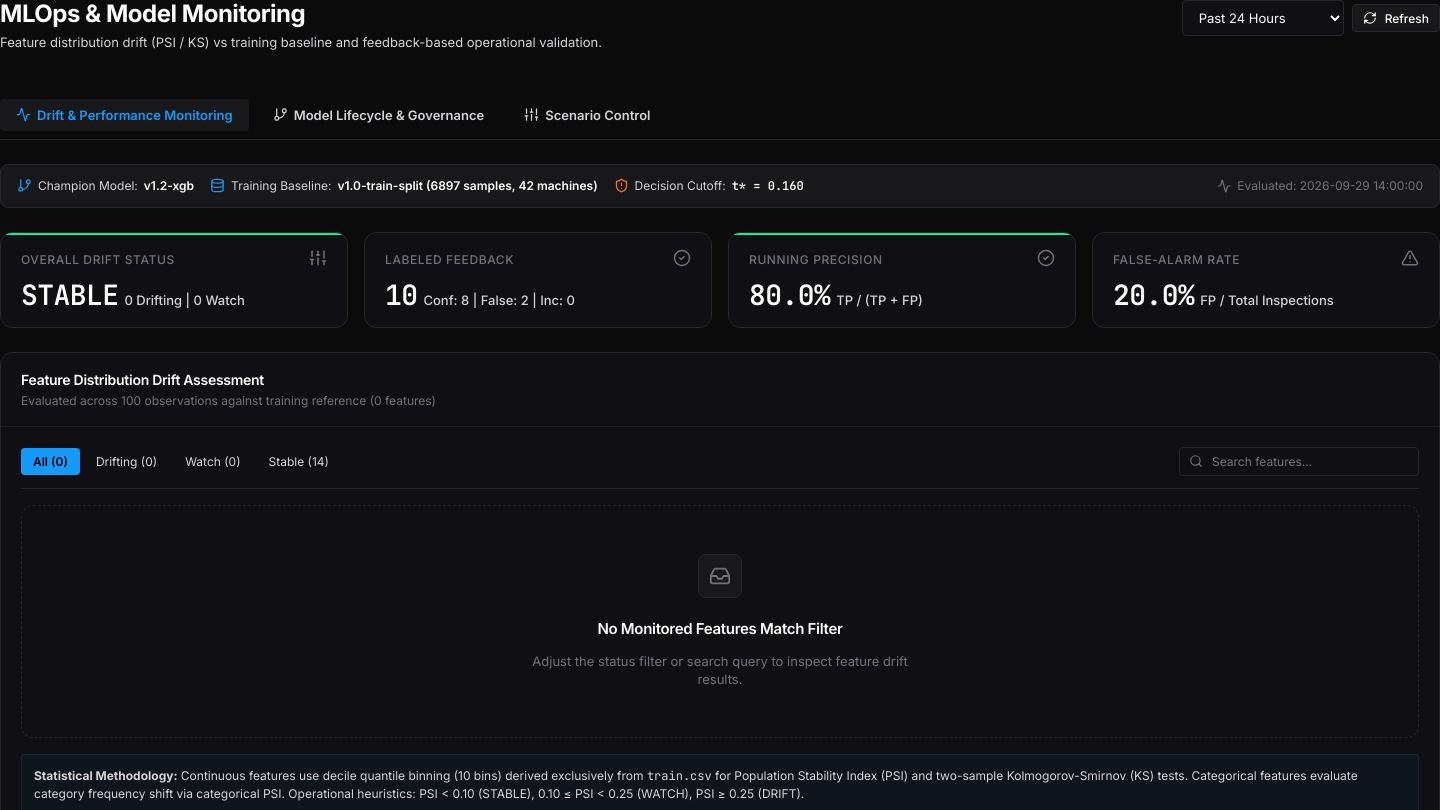
Test: Model Lifecycle & Governance UI (T-061) › switches to Model Lifecycle & Governance tab and renders registry table
The width and height of the screenshot is (1440, 810).
Expected: the heading "MLOps & Model Monitoring" is shown, [0,0,305,29]
Switch to Lifecycle tab
Click the button "Model Lifecycle & Governance".
click(378, 115)  # box [257,99,500,131]
(page scrolled)
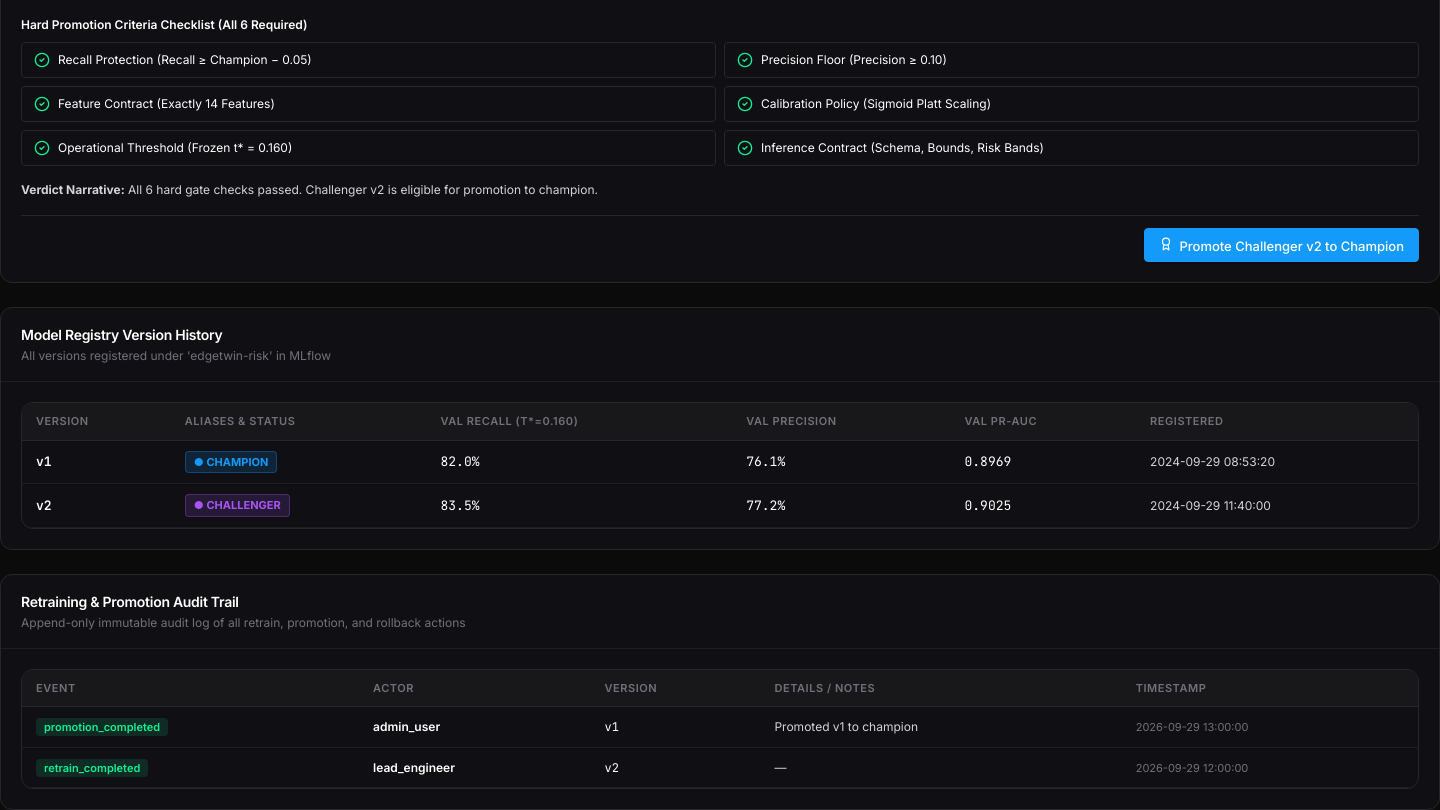
Expected: the heading "Model Registry Version History" is shown, [21,326,222,343]
Expected: the text "● CHAMPION" is shown, [185,451,277,473]
Expected: the text "● CHALLENGER" is shown, [185,494,290,517]
